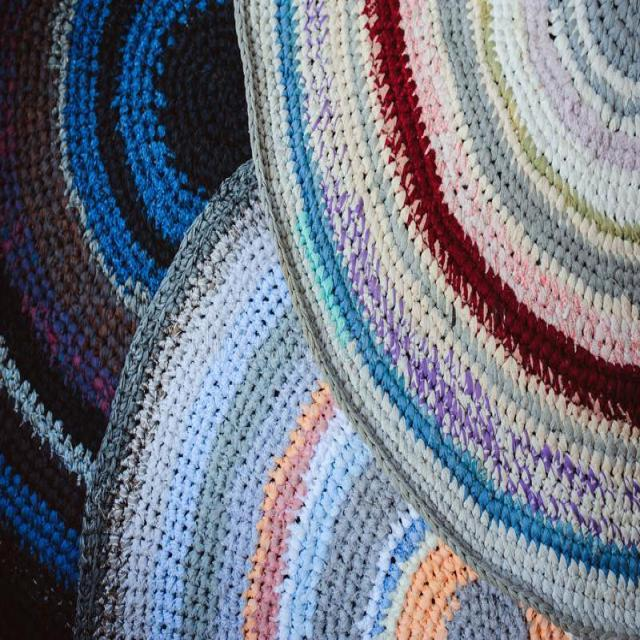clothes: (273, 50, 573, 572)
